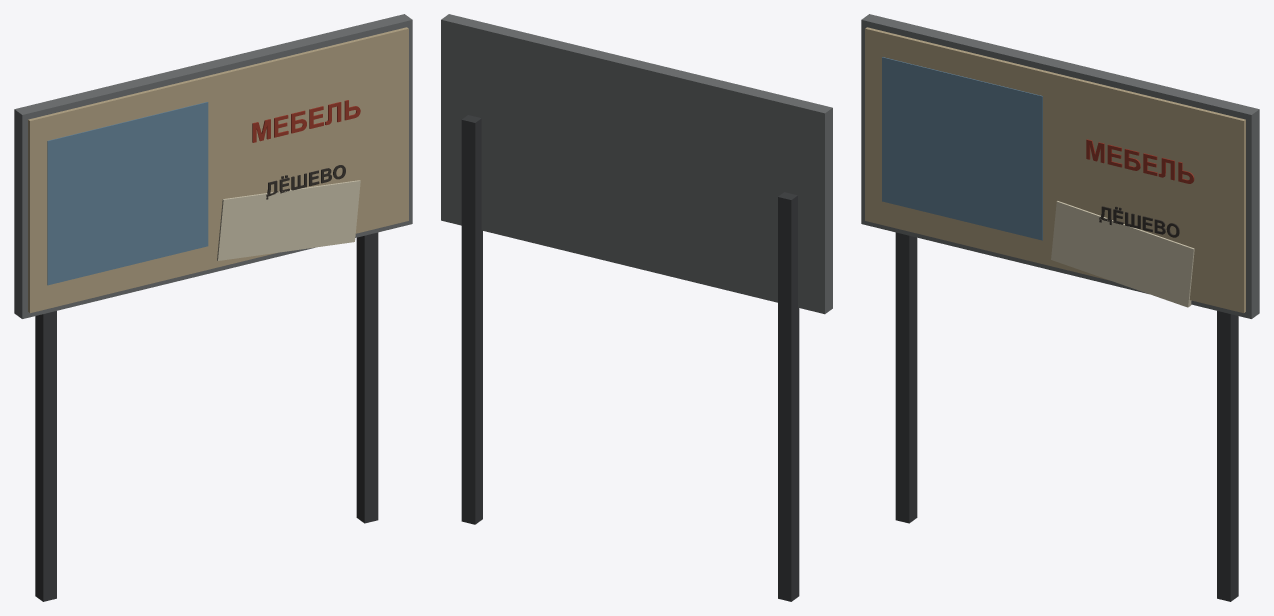
Rendered from billboard.glb.
The picture shows the model from 3 angles, left to right: view 1: azimuth 30°, elevation 25°; view 2: azimuth 150°, elevation 25°; view 3: azimuth 330°, elevation 25°; orthographic projection.
Parts seen in each view (by area): view 1: Billboard; view 2: Billboard; view 3: Billboard.
Part boxes in pixels (box(x1,y1,x2,y2)): Billboard: box(14, 14, 412, 601); Billboard: box(441, 14, 832, 601); Billboard: box(861, 14, 1259, 601).
Size of the model in its own units: 3.4 by 4.15 by 0.265.
